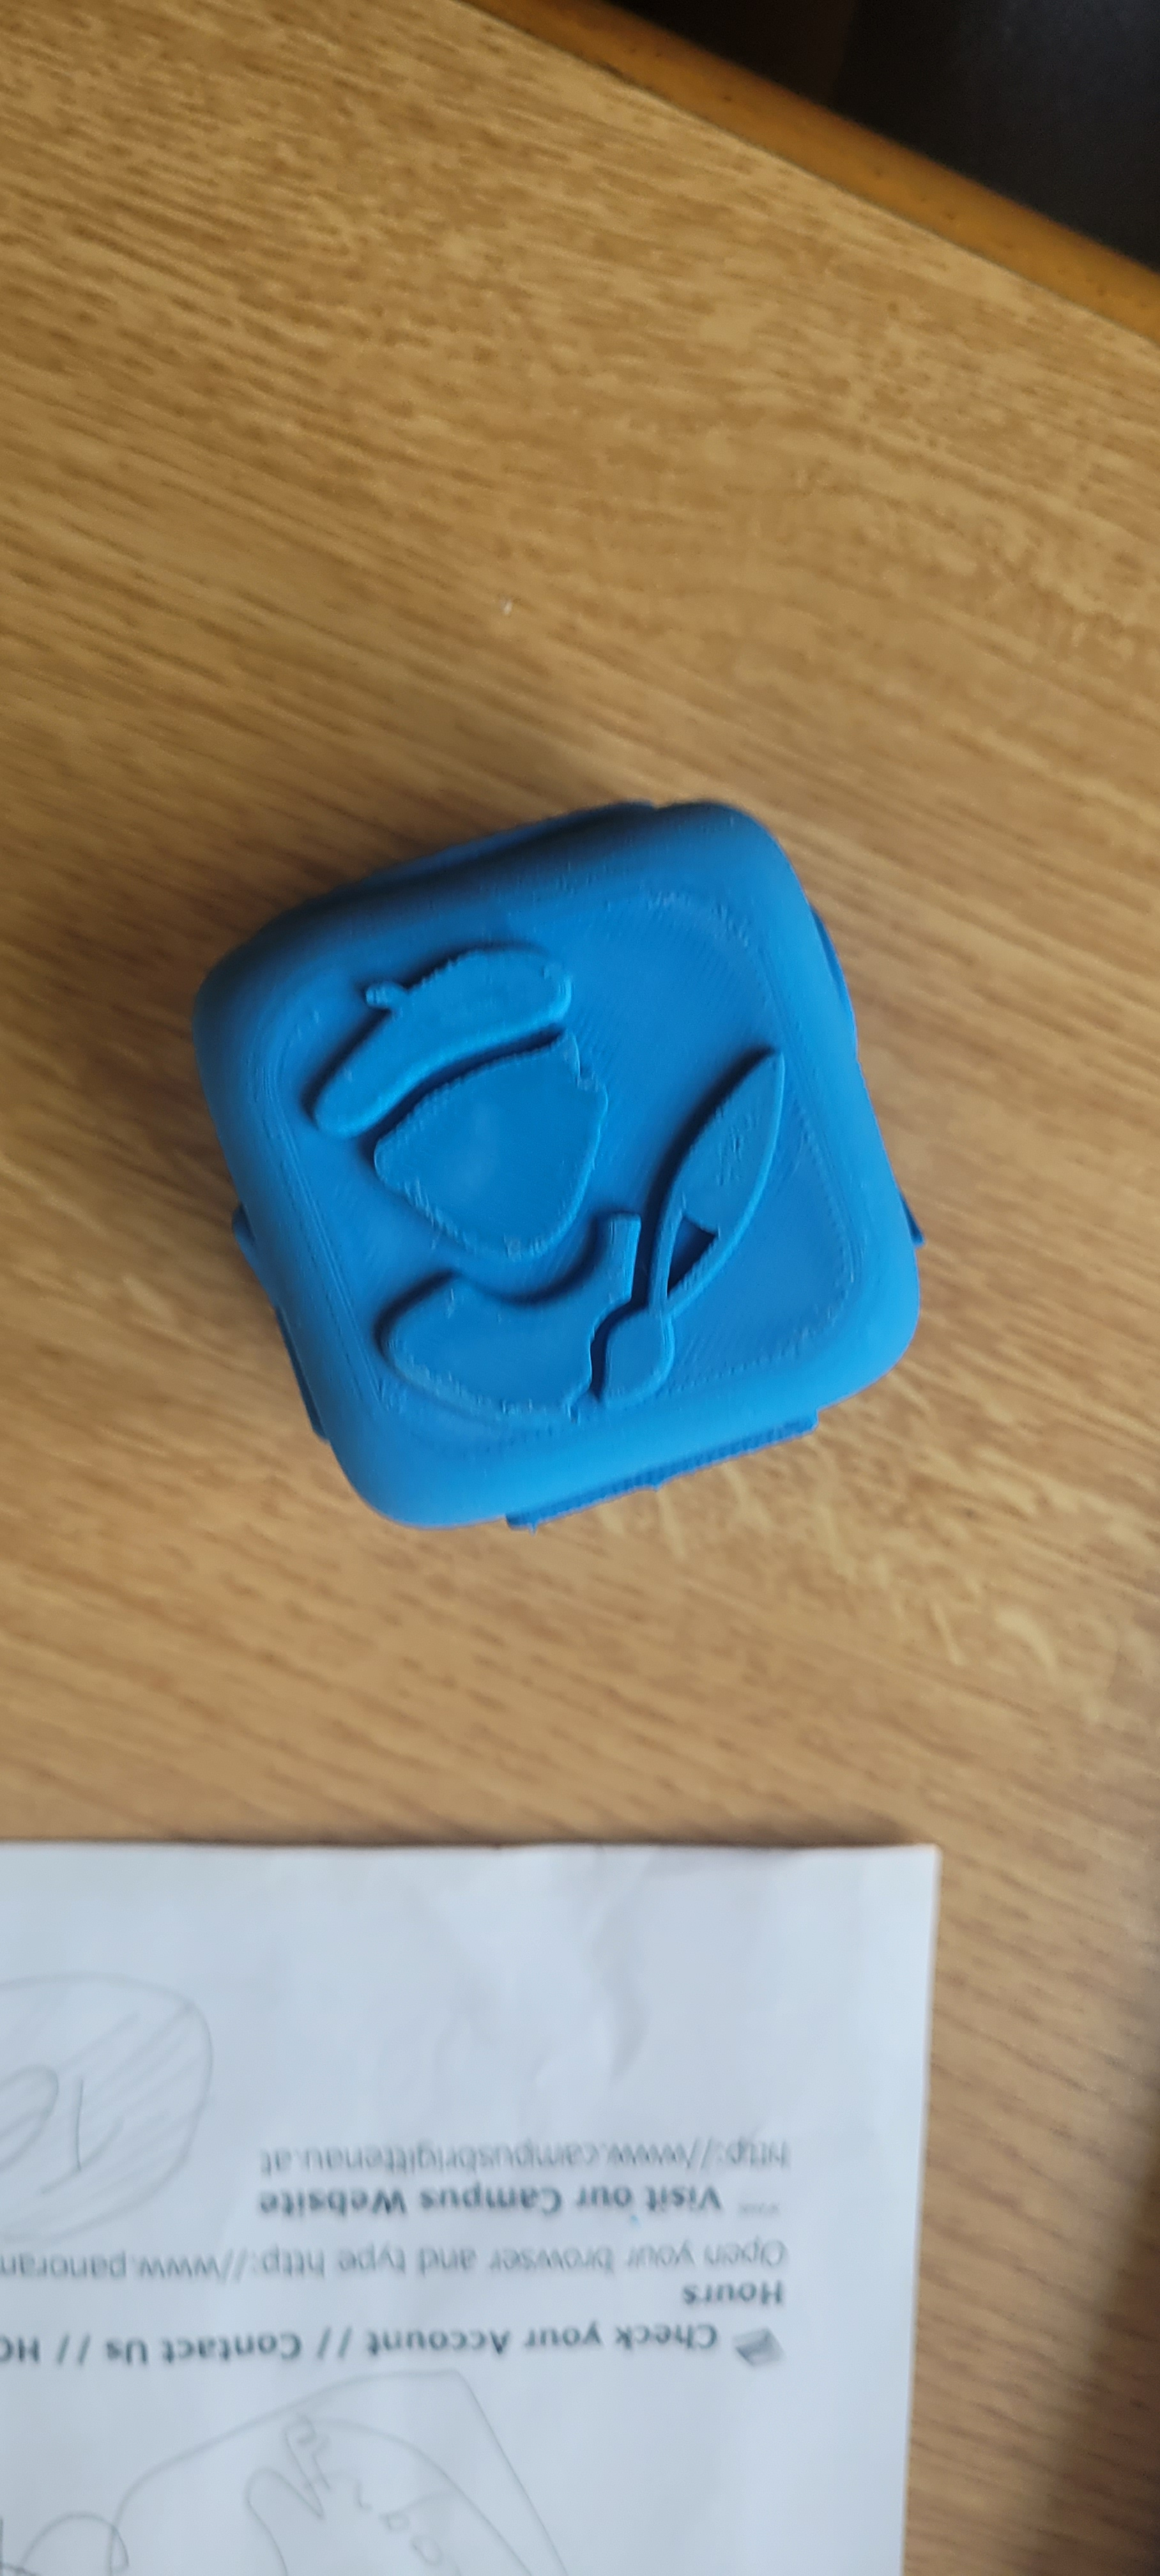Artist_Info: (131, 805, 1006, 1543)
